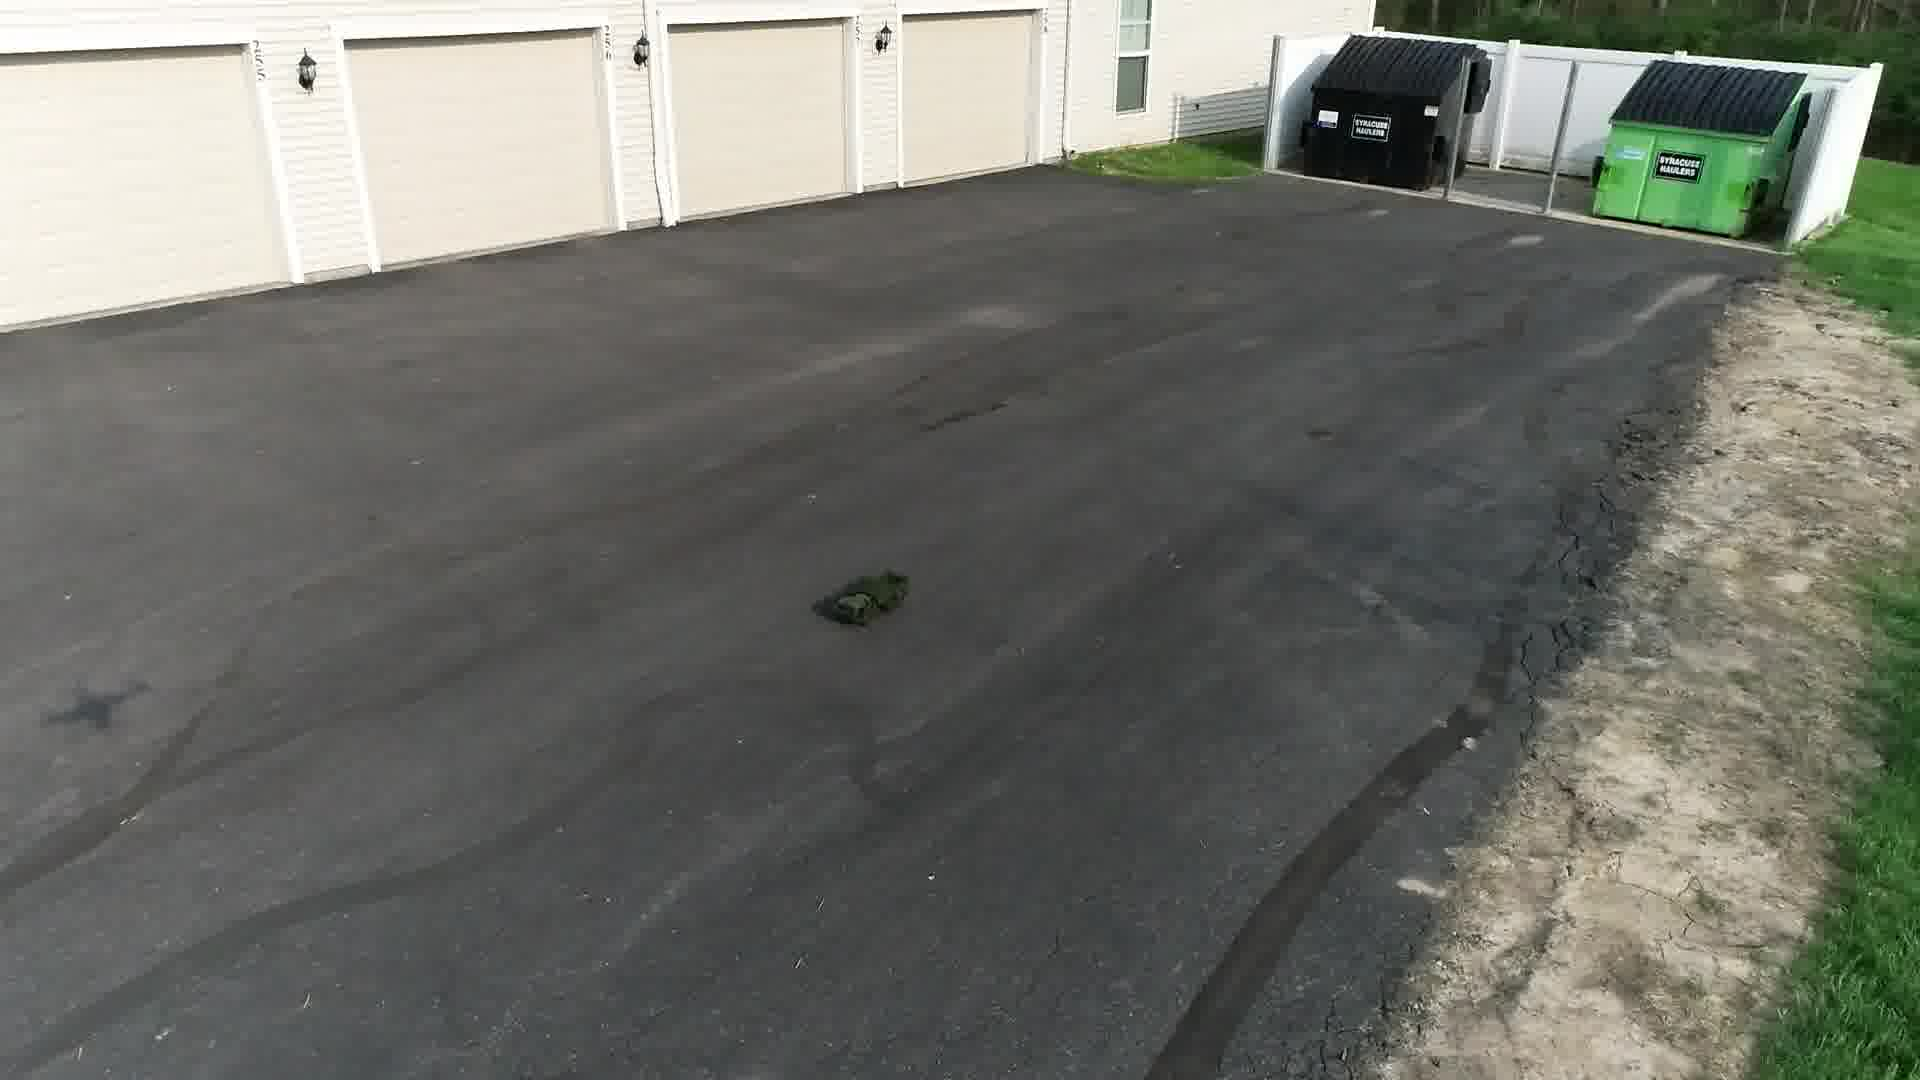transporter9: (804, 566, 916, 630)
